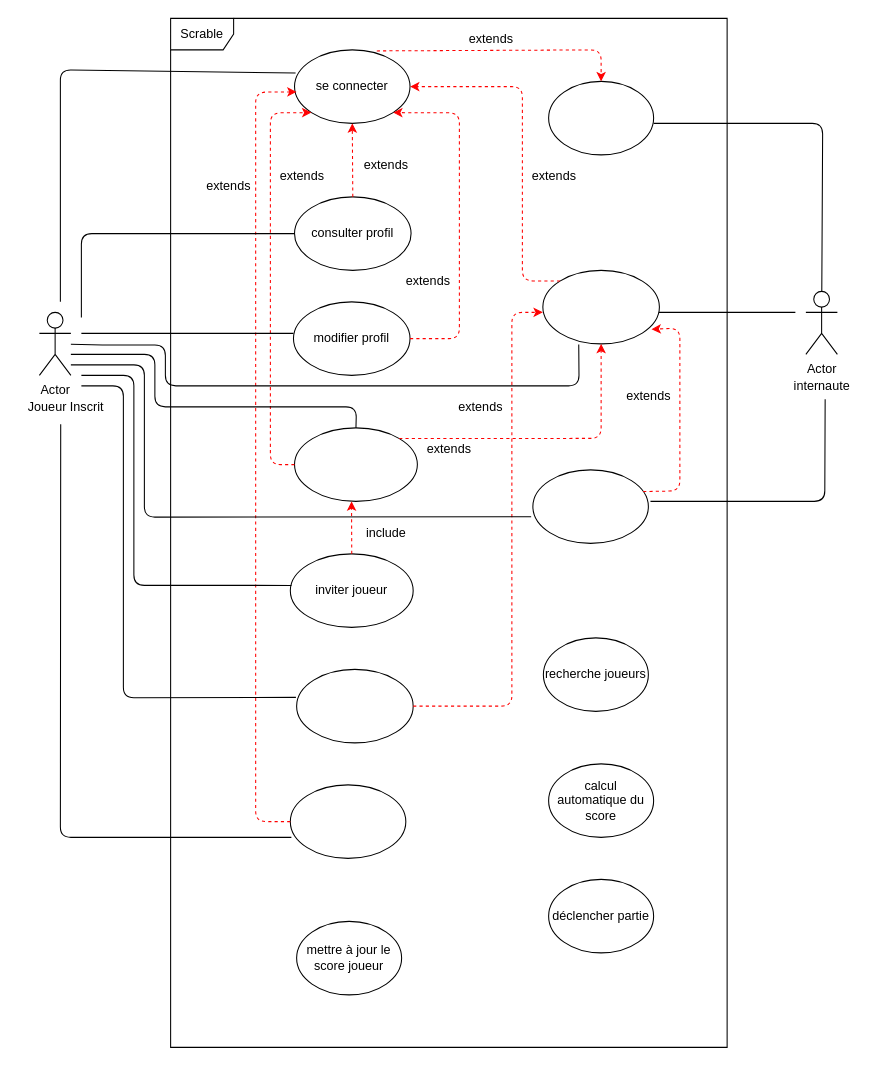
Some shapes in this 876 by 1066 pixel diagram are drawn without their labels. Each missing label, with the box of its shape:
Créer Partie: (293, 427, 417, 501)
Jouer partie: (542, 269, 659, 344)
quitter partie: (532, 469, 648, 543)
répondre à une invitation: (296, 668, 413, 743)
s'inscrire: (548, 80, 654, 155)
se deconnecter: (289, 784, 406, 858)
